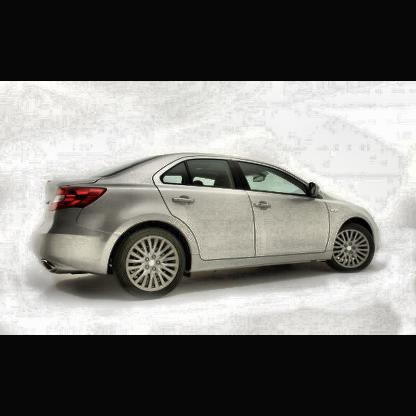Suzuki Kizashi Sedan 2012: (34, 153, 380, 298)
